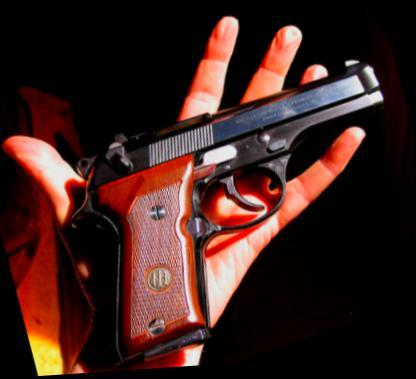pistol: (52, 50, 414, 374)
